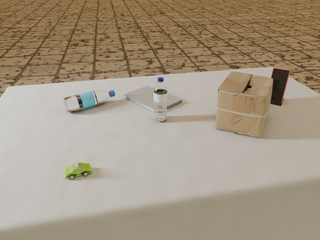book: (123, 86, 182, 112)
bottle: (63, 90, 115, 112), (153, 77, 168, 122)
box: (216, 72, 273, 138)
phone: (270, 68, 290, 102)
toy_car: (64, 161, 92, 179)
